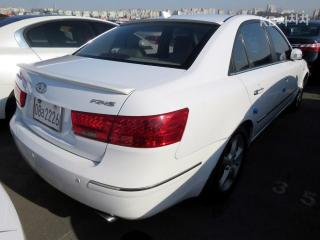0: (35, 103, 38, 117)
2: (45, 108, 49, 122), (49, 109, 52, 124), (52, 111, 55, 125)
6: (55, 113, 60, 126)
8: (38, 104, 41, 117)
plate: (31, 94, 66, 134)
라: (41, 108, 45, 119)
